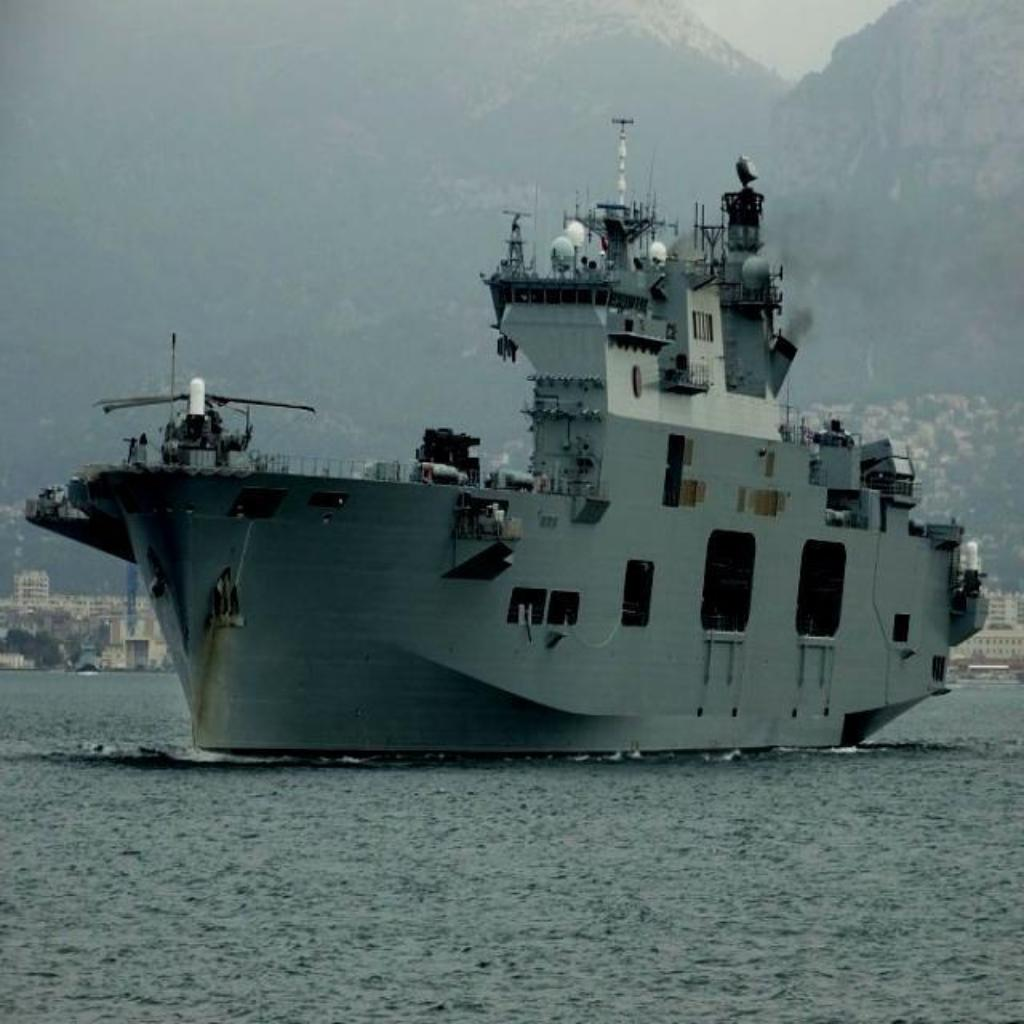Warship: (12, 102, 1008, 776)
